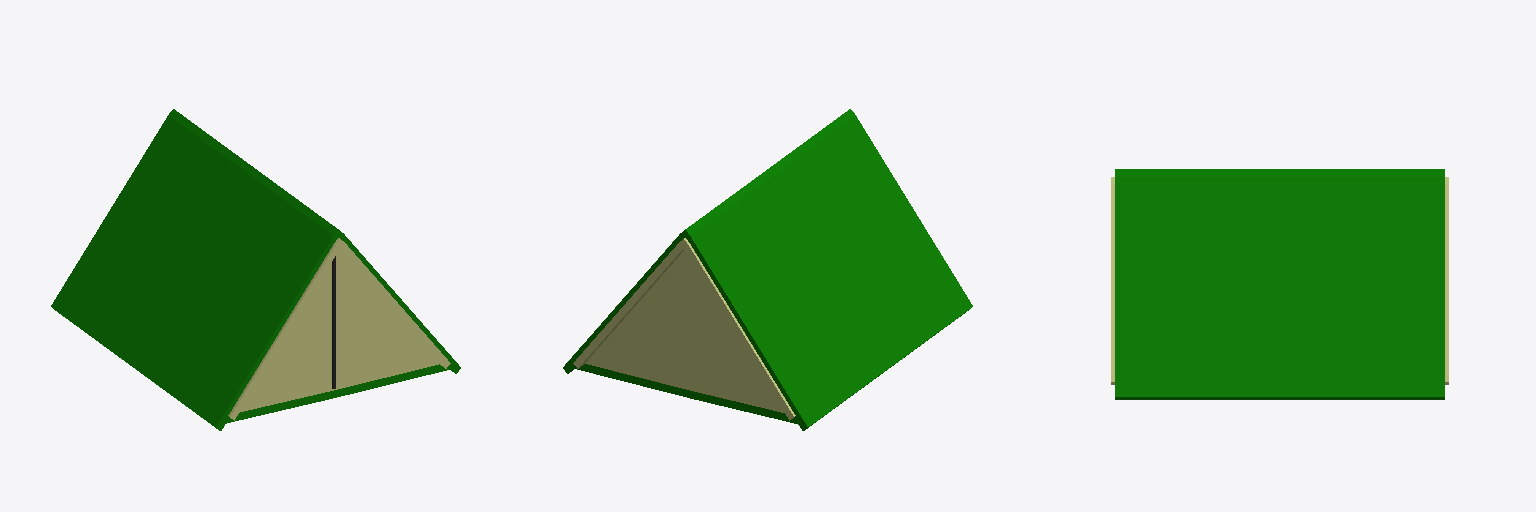
File: tentDriehoekGroen.obj
3 renders of one model, left to right at view 1: azimuth 30°, elevation 25°; view 2: azimuth 150°, elevation 25°; view 3: azimuth 270°, elevation 25°, orthographic.
Parts seen in each view (by area): view 1: Cube_Cube.002, Cube.001_Cube.003; view 2: Cube_Cube.002, Cube.001_Cube.003; view 3: Cube_Cube.002, Cube.001_Cube.003.
Boxes of the visible parts, x1,y1,x2,y2 form: Cube_Cube.002: [51, 109, 460, 430]; Cube.001_Cube.003: [228, 238, 450, 420]; Cube_Cube.002: [563, 109, 972, 430]; Cube.001_Cube.003: [573, 238, 795, 420]; Cube_Cube.002: [1115, 169, 1444, 399]; Cube.001_Cube.003: [1111, 177, 1448, 384].
Bounding box in the file's own units: 1.71 × 1.16 × 2.04.